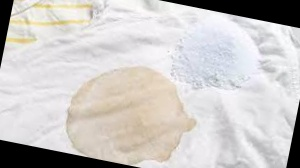coffee: (58, 54, 205, 168)
